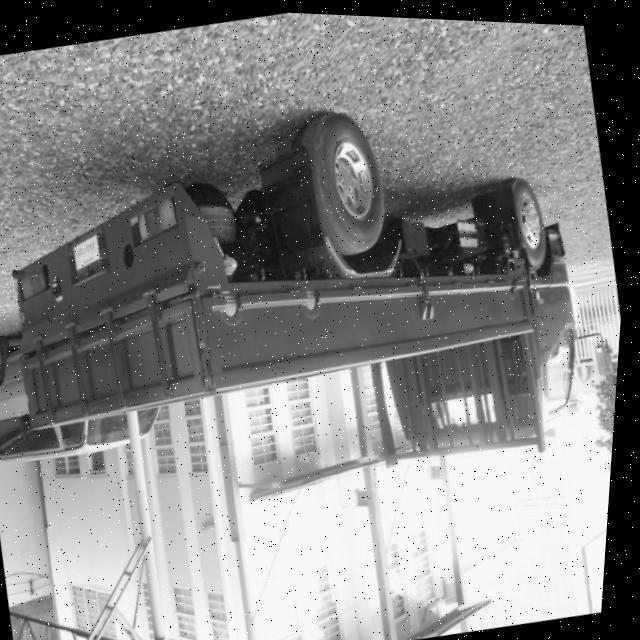truck: (0, 50, 637, 542)
